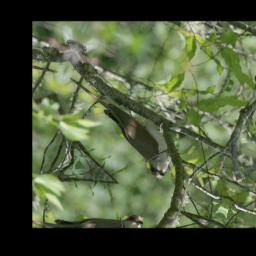Cuckoo: (46, 75, 186, 182)
